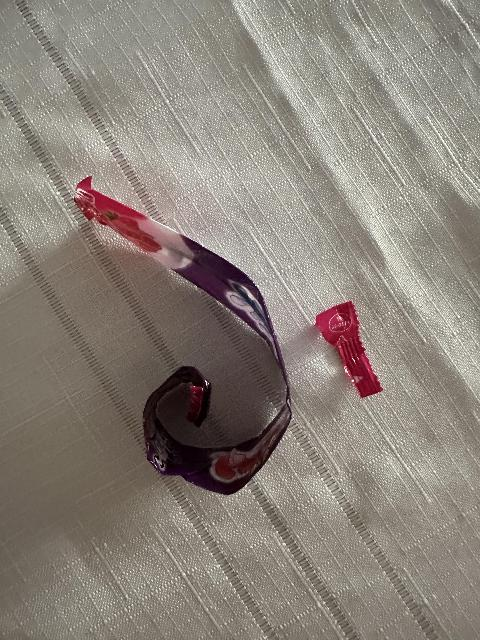Plastik: (78, 181, 295, 498), (316, 297, 392, 405)
